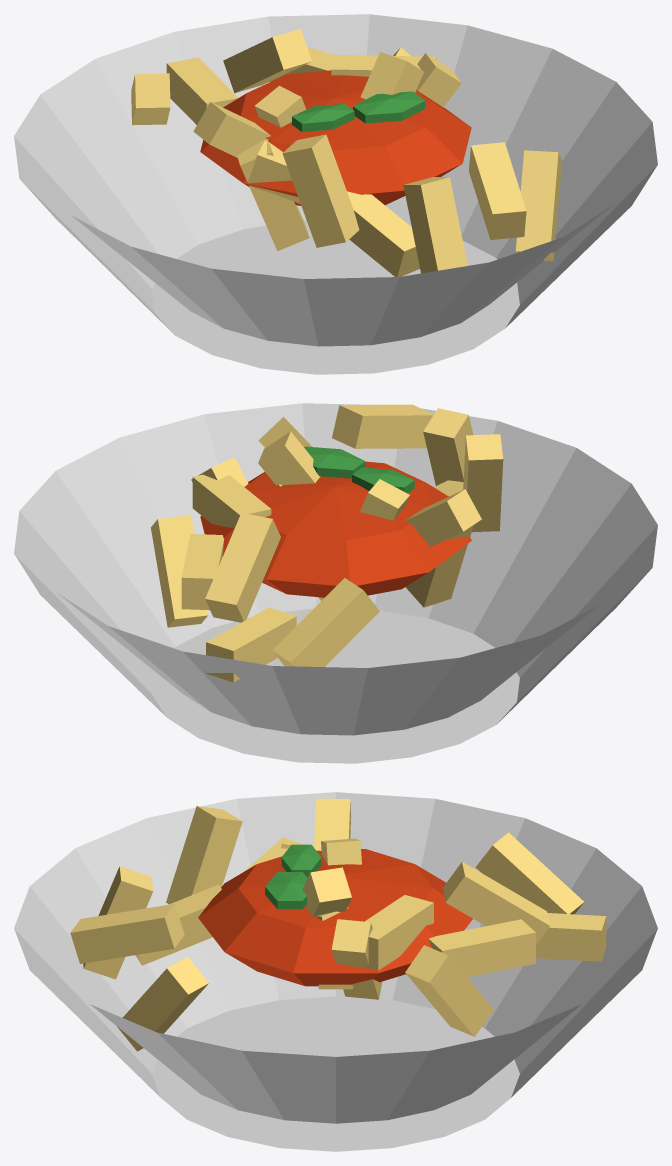
Rendered from pasta.glb.
3 renders of one model, top to bottom at view 1: azimuth 30°, elevation 25°; view 2: azimuth 150°, elevation 25°; view 3: azimuth 270°, elevation 25°, orthographic.
Visible parts, largest first — view 1: pasta; view 2: pasta; view 3: pasta.
Boxes of the visible parts, x1=… form: pasta: x1=14, y1=14, x2=657, y2=374; pasta: x1=14, y1=403, x2=657, y2=763; pasta: x1=14, y1=792, x2=657, y2=1151.
Size of the model in its own units: 0.56 by 0.2206 by 0.56.
